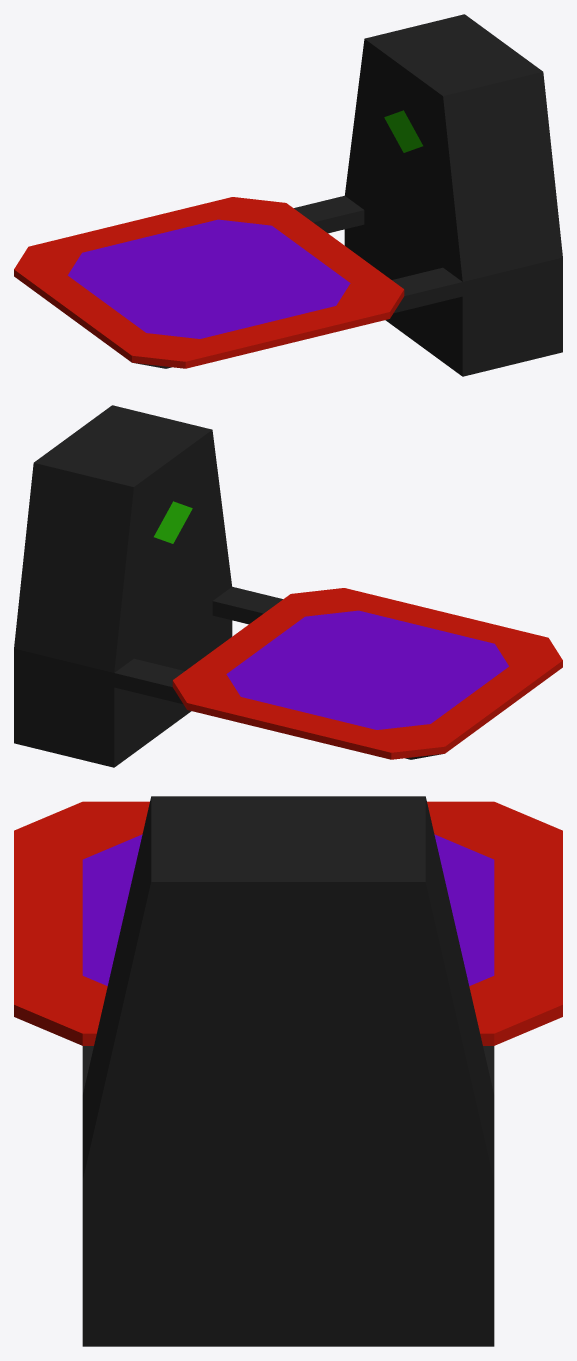
Rendered from station.obj.
3 views of the same model, one above another, from view 1: azimuth 30°, elevation 25°; view 2: azimuth 150°, elevation 25°; view 3: azimuth 270°, elevation 25° (orthographic). The views are drawn at different scales.
Visible parts, largest first — view 1: Cube; view 2: Cube; view 3: Cube.
Boxes of the visible parts, x1,y1,x2,y2 form: Cube: (14,14,562,376); Cube: (14,405,562,767); Cube: (14,796,562,1346).
Bounding box in the file's own units: 31.66 × 18.68 × 20.
